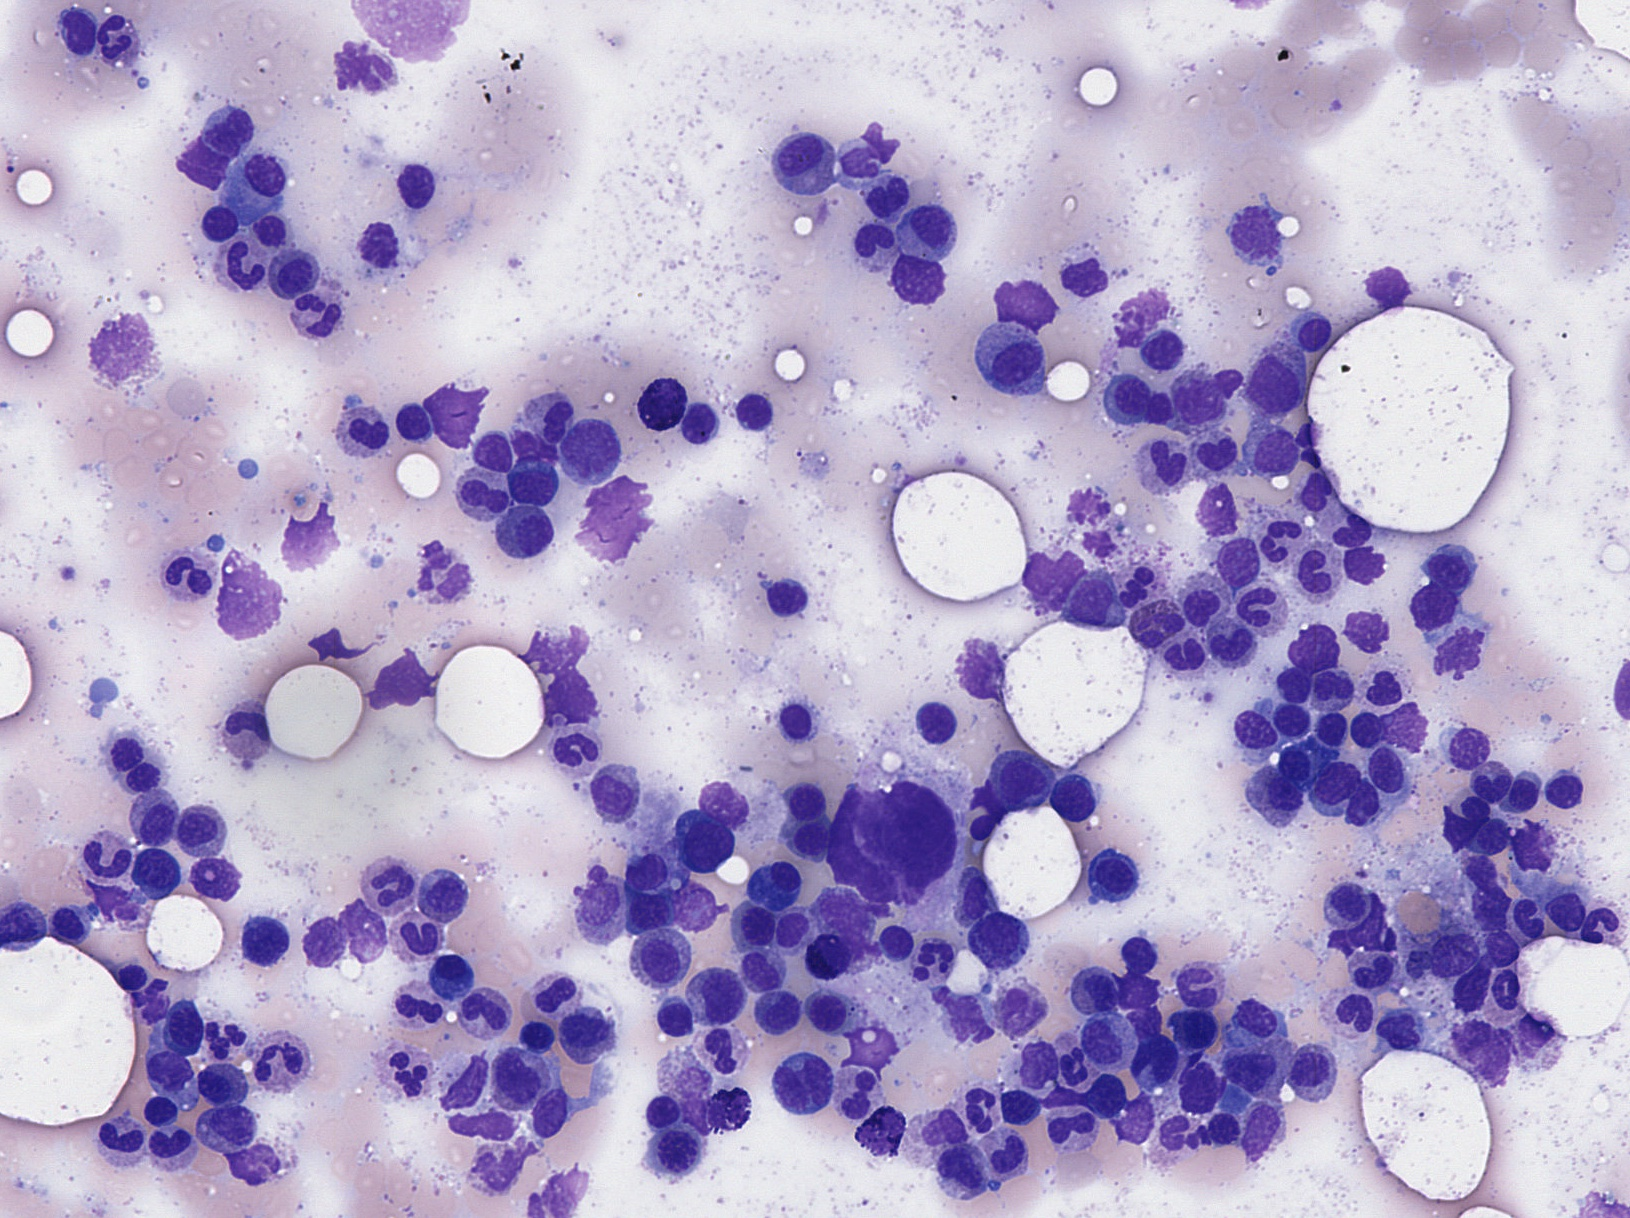objectness: (331, 38, 383, 90), (381, 1050, 431, 1102), (1109, 560, 1159, 612), (1048, 1041, 1098, 1093), (1479, 963, 1529, 1015), (1128, 597, 1180, 647), (979, 1128, 1029, 1180), (461, 464, 510, 516), (1064, 574, 1114, 626), (235, 912, 287, 962), (1288, 464, 1340, 514), (844, 1024, 896, 1073), (885, 256, 937, 306), (84, 876, 134, 928), (1334, 535, 1386, 585), (91, 322, 141, 374), (1340, 780, 1389, 832), (1169, 372, 1221, 422), (386, 397, 438, 447), (908, 697, 960, 747), (1114, 926, 1166, 976), (1498, 766, 1548, 818), (725, 899, 777, 949), (899, 206, 951, 256), (562, 1009, 612, 1061), (635, 379, 684, 429), (702, 1084, 752, 1134), (856, 1108, 906, 1158), (1282, 303, 1332, 353), (1285, 734, 1334, 784), (748, 860, 798, 910), (225, 160, 275, 210), (829, 136, 879, 186), (200, 104, 249, 154), (861, 173, 911, 223), (696, 1024, 746, 1073), (1157, 628, 1207, 678), (249, 1034, 299, 1084), (908, 931, 958, 981), (367, 858, 417, 908), (1253, 513, 1302, 563), (157, 549, 207, 599), (392, 913, 441, 963), (1288, 546, 1338, 596), (1146, 1109, 1196, 1159), (953, 1084, 1003, 1134), (548, 722, 597, 771), (394, 980, 444, 1030), (1346, 943, 1396, 993), (292, 289, 342, 339), (1230, 582, 1279, 632), (197, 1015, 247, 1064), (215, 238, 265, 288), (830, 1071, 880, 1121), (221, 700, 271, 750), (79, 835, 129, 885), (1167, 961, 1217, 1011), (1327, 983, 1377, 1032), (86, 12, 136, 61), (1574, 897, 1624, 947), (415, 870, 464, 920), (1175, 573, 1224, 623), (1247, 773, 1297, 823), (690, 969, 740, 1018), (1287, 1047, 1337, 1096), (733, 945, 783, 995), (1068, 965, 1118, 1015), (498, 505, 548, 555), (128, 792, 178, 842), (177, 806, 226, 856), (193, 1058, 243, 1108), (587, 765, 637, 815), (748, 985, 798, 1035), (264, 249, 313, 299), (577, 882, 627, 931), (635, 930, 684, 980), (1318, 880, 1368, 930), (522, 391, 572, 441), (1189, 427, 1238, 477), (1464, 756, 1514, 806), (847, 217, 897, 267), (455, 986, 505, 1036), (339, 409, 389, 459), (1201, 614, 1251, 664), (1136, 443, 1186, 493), (142, 1123, 192, 1173), (1047, 1100, 1096, 1150), (1308, 661, 1357, 711), (93, 1113, 143, 1163), (933, 1143, 983, 1192), (531, 969, 581, 1018), (676, 815, 725, 865), (566, 429, 615, 478), (51, 6, 101, 56), (779, 1061, 829, 1111), (505, 455, 555, 505), (1114, 289, 1164, 339), (990, 979, 1040, 1029), (1363, 745, 1412, 795), (104, 951, 154, 1000), (1375, 699, 1425, 748), (765, 903, 815, 953), (1009, 1036, 1059, 1086), (1238, 1102, 1288, 1151), (1198, 1104, 1247, 1154), (1409, 577, 1459, 627), (1058, 249, 1108, 299), (226, 1136, 276, 1186), (1166, 1004, 1215, 1054), (1231, 1049, 1281, 1099), (1340, 600, 1389, 650), (1120, 997, 1169, 1047), (623, 847, 673, 897), (861, 812, 911, 862), (953, 801, 1003, 851), (1364, 257, 1414, 307), (430, 383, 480, 432), (422, 952, 472, 1002), (510, 1013, 560, 1063), (915, 1105, 965, 1155), (853, 111, 903, 161), (1178, 1066, 1228, 1116), (1323, 505, 1373, 555), (771, 695, 821, 745), (946, 873, 995, 922), (637, 1087, 687, 1137), (1111, 1098, 1160, 1148), (1306, 757, 1356, 807), (1379, 1002, 1429, 1052), (1109, 967, 1159, 1017), (125, 977, 175, 1027), (502, 416, 551, 466), (177, 138, 226, 188), (145, 1049, 194, 1099), (1227, 706, 1277, 756), (1228, 209, 1278, 258), (40, 899, 90, 949), (1127, 1038, 1177, 1087), (1228, 998, 1278, 1048), (670, 882, 720, 931), (352, 220, 402, 270), (1433, 626, 1483, 676), (1540, 885, 1590, 935), (999, 278, 1049, 328), (700, 777, 750, 826), (186, 848, 235, 898), (1132, 384, 1182, 434), (1355, 661, 1405, 711), (815, 882, 865, 931), (938, 992, 988, 1041), (1085, 1011, 1135, 1061), (1427, 542, 1476, 592), (392, 159, 441, 209), (1441, 722, 1491, 771), (957, 769, 1007, 819), (1287, 622, 1337, 672), (464, 425, 514, 475), (1267, 659, 1317, 709), (1340, 704, 1389, 754), (1537, 763, 1586, 812), (672, 397, 722, 447), (989, 1081, 1039, 1131), (1308, 702, 1357, 752), (649, 990, 699, 1040), (132, 1084, 182, 1134), (728, 384, 778, 434), (191, 197, 241, 247), (871, 917, 921, 967), (1136, 328, 1186, 377), (1264, 693, 1314, 743), (761, 571, 811, 621), (1045, 771, 1095, 821), (113, 754, 162, 803), (778, 773, 828, 823), (800, 984, 850, 1034), (649, 1127, 699, 1177), (786, 816, 835, 866), (246, 202, 296, 252), (127, 847, 177, 897), (155, 1000, 205, 1050), (1088, 848, 1137, 898), (621, 883, 670, 933), (99, 728, 148, 778), (988, 335, 1038, 385), (1249, 360, 1299, 409), (202, 1102, 252, 1151), (972, 912, 1022, 962), (775, 134, 825, 184), (494, 1056, 544, 1105), (993, 754, 1043, 803), (383, 0, 432, 46), (0, 902, 44, 952)
